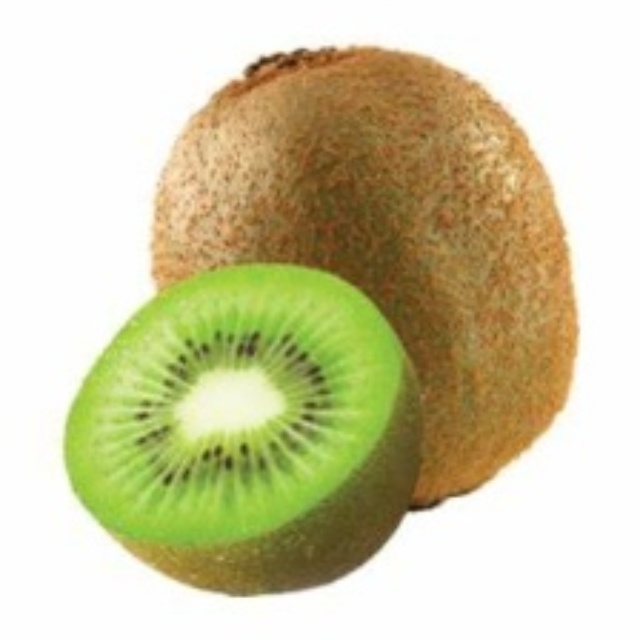kiwi: (162, 53, 572, 502), (54, 263, 412, 585)
